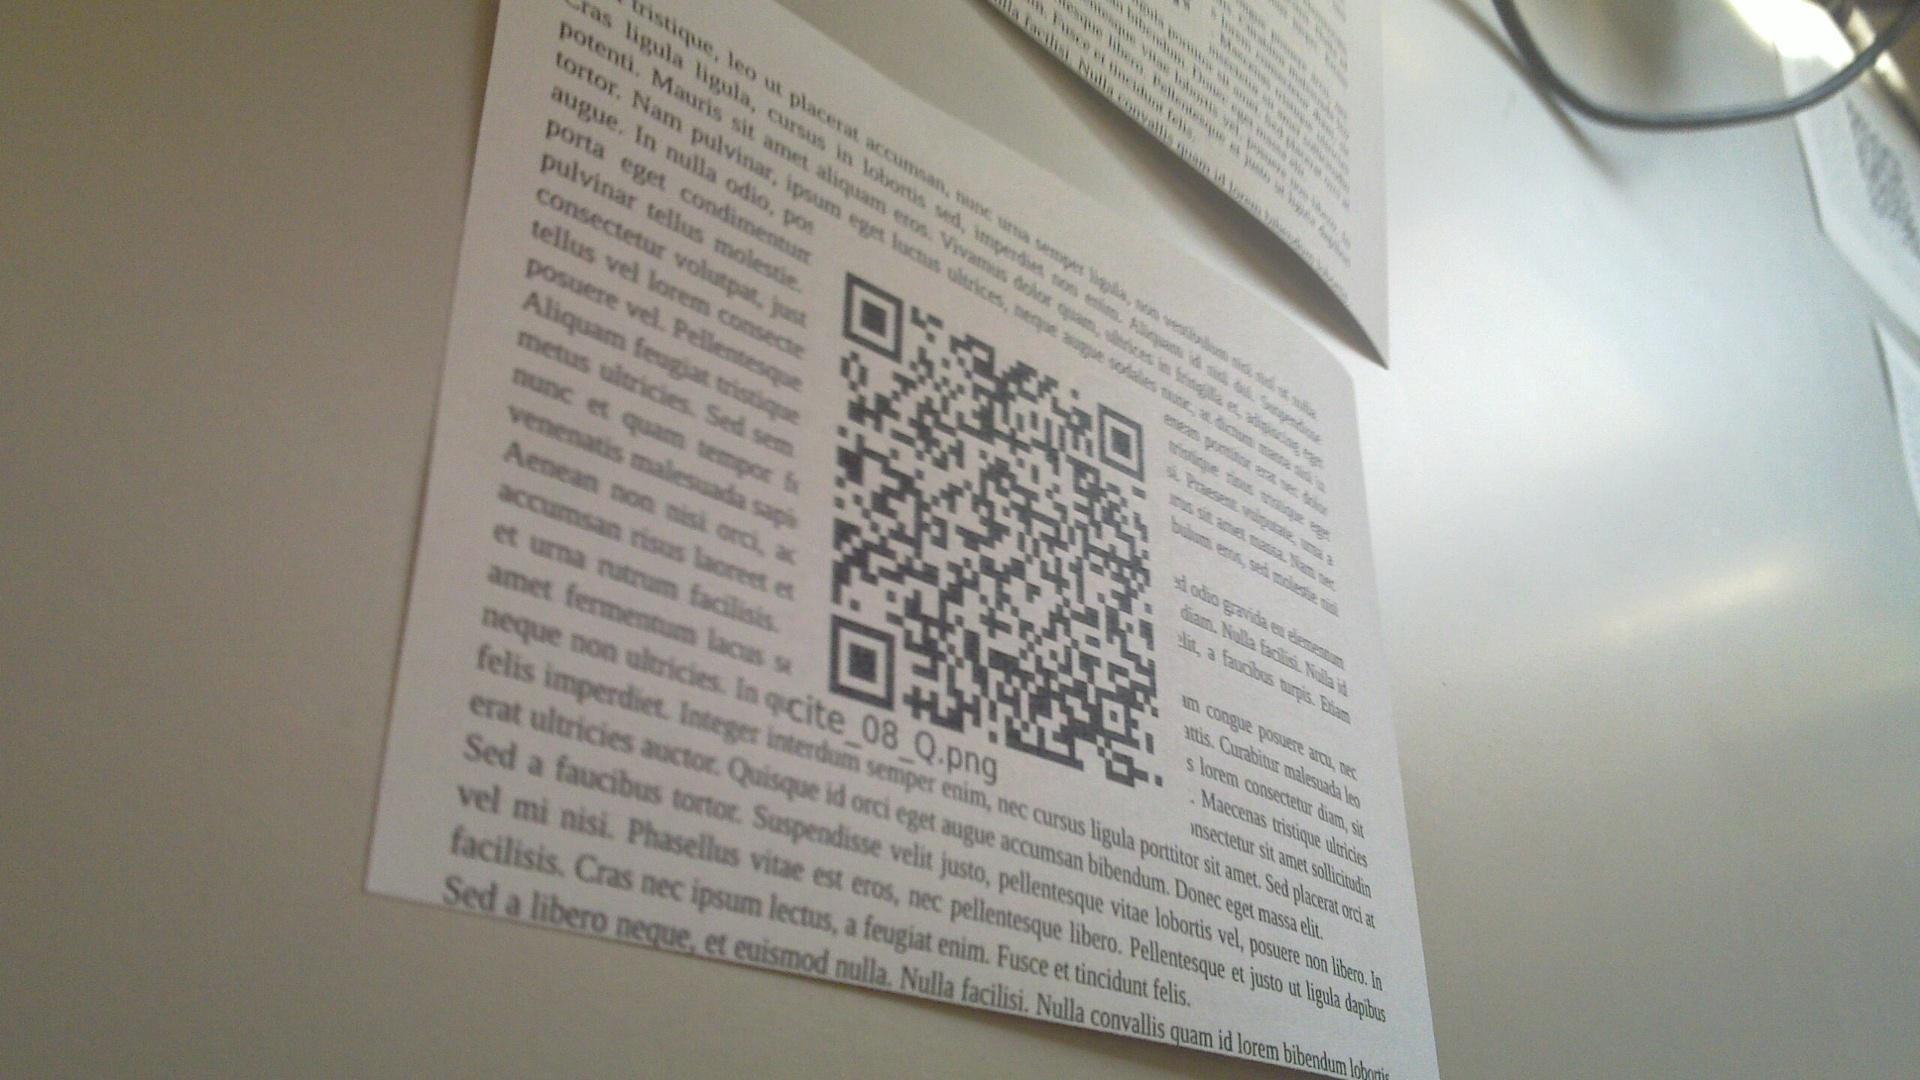qr_code: (828, 270, 1163, 791)
